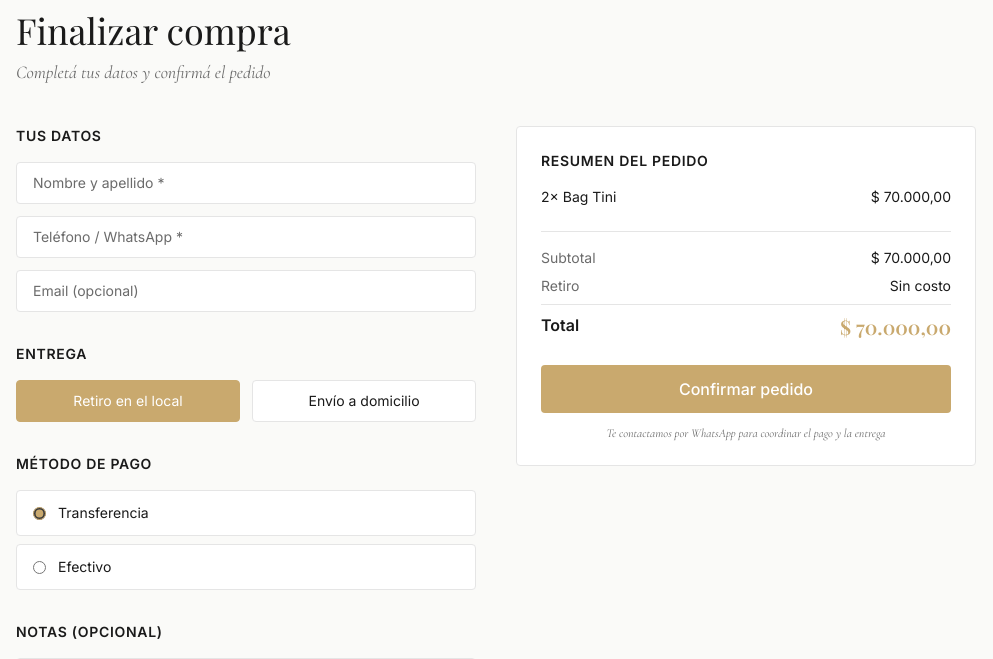
Test: Checkout › valida nombre y teléfono vacíos al confirmar
Click the button "Confirmar pedido" at [746, 389], box [541,365,951,413]
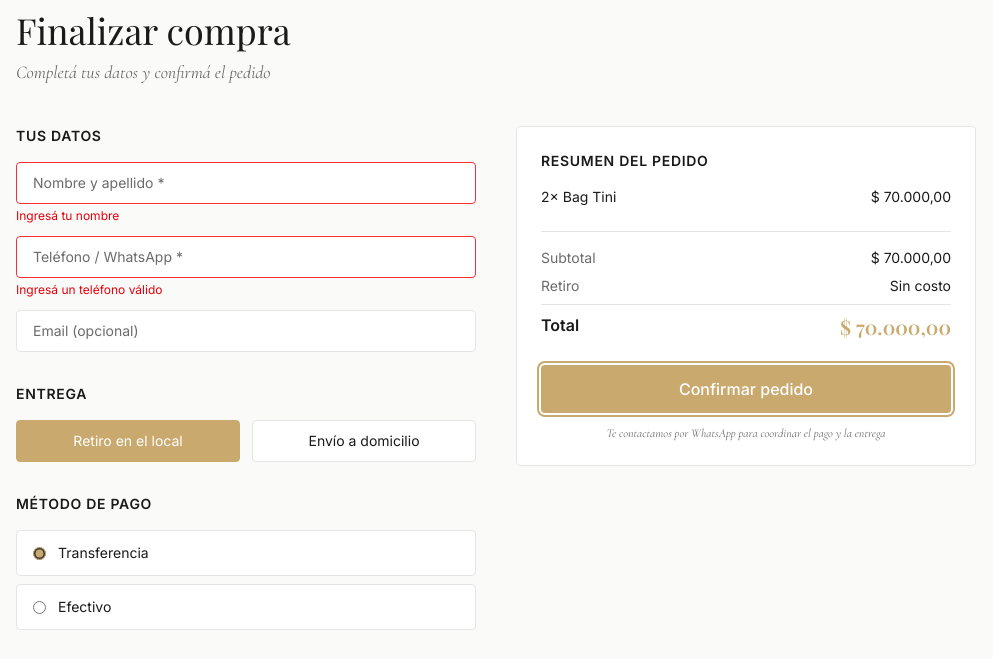
Check: the text "Ingresá tu nombre" is shown, box [16,208,119,223]
Check: the text "Ingresá un teléfono válido" is shown, box [16,282,162,297]
